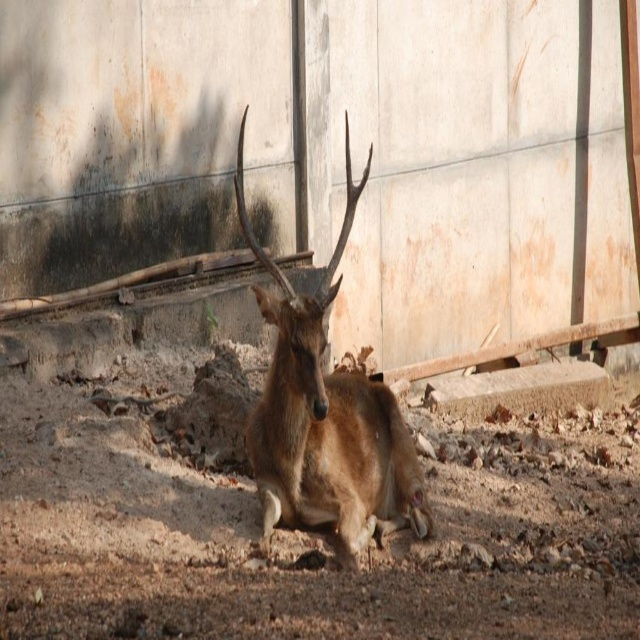Deer: (236, 103, 432, 562)
